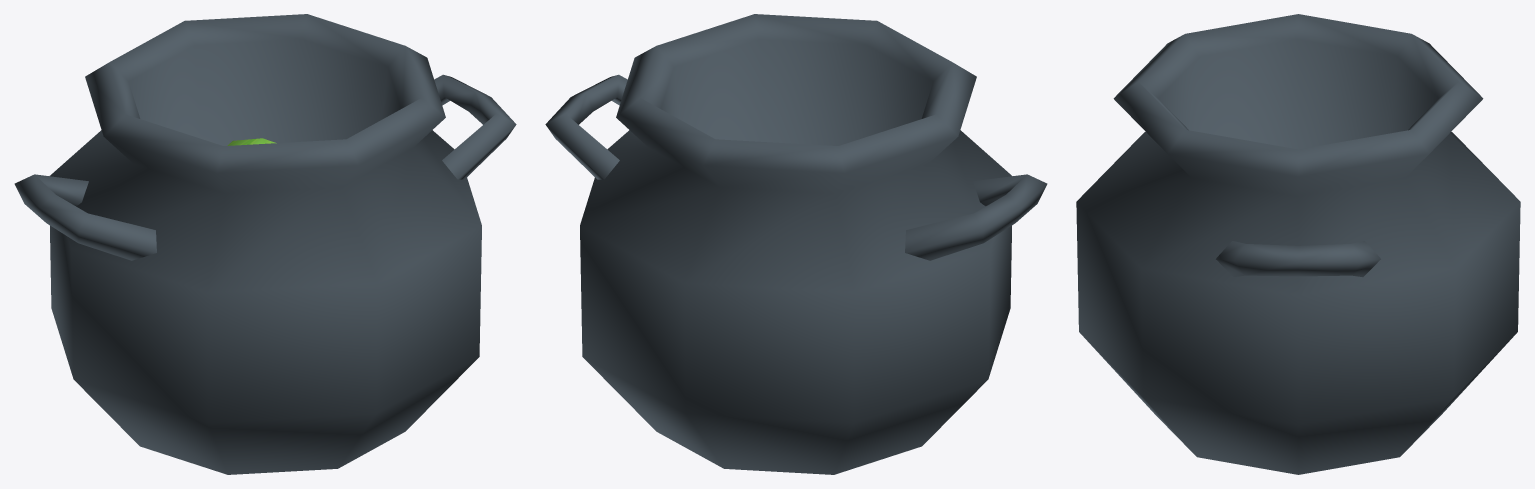
Rendered from Goods06_a01.FBX.
3 renders of one model, left to right at view 1: azimuth 30°, elevation 25°; view 2: azimuth 150°, elevation 25°; view 3: azimuth 270°, elevation 25°, orthographic.
Parts seen in each view (by area): view 1: Goods06_a01; view 2: Goods06_a01; view 3: Goods06_a01.
Part boxes in pixels (<box>): Goods06_a01: <box>14,14,516,474</box>; Goods06_a01: <box>545,14,1047,474</box>; Goods06_a01: <box>1076,14,1520,474</box>.
Size of the model in its own units: 139 by 98.95 by 120.
